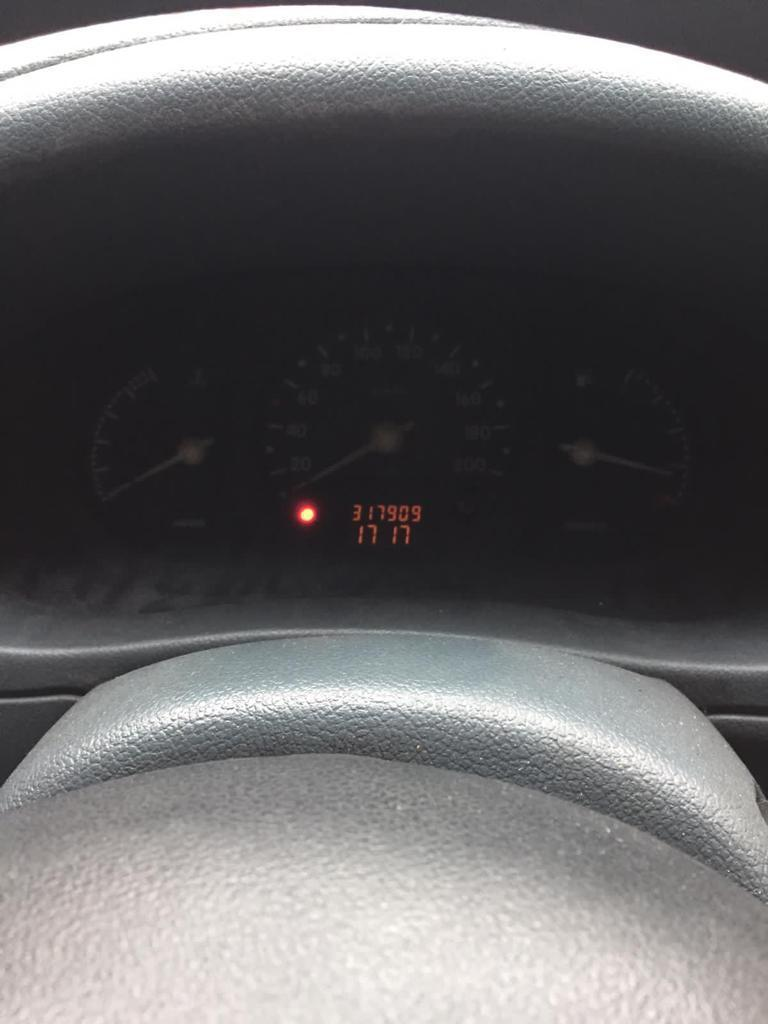0: (398, 504, 409, 521)
1: (357, 524, 363, 543), (392, 525, 397, 545), (368, 504, 373, 520)
3: (353, 503, 361, 521)
7: (366, 522, 377, 544), (400, 524, 410, 545), (376, 503, 385, 520)
9: (411, 504, 421, 521), (387, 504, 396, 521)
odometer: (338, 499, 428, 551)
